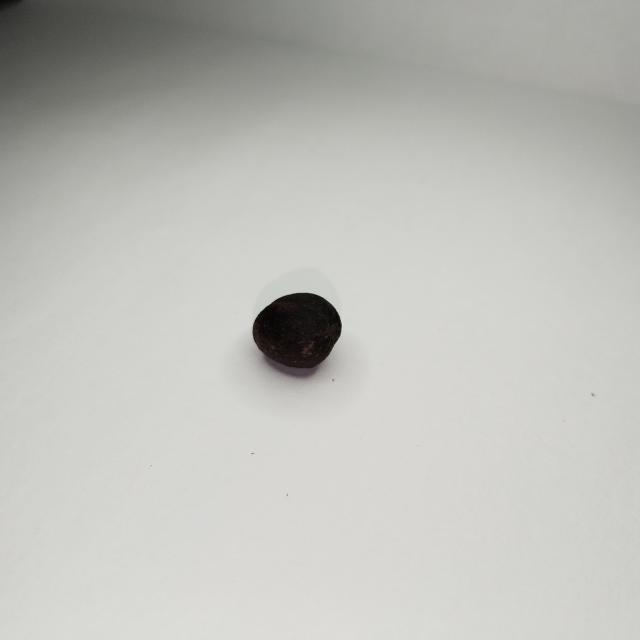Danado: (252, 293, 342, 369)
